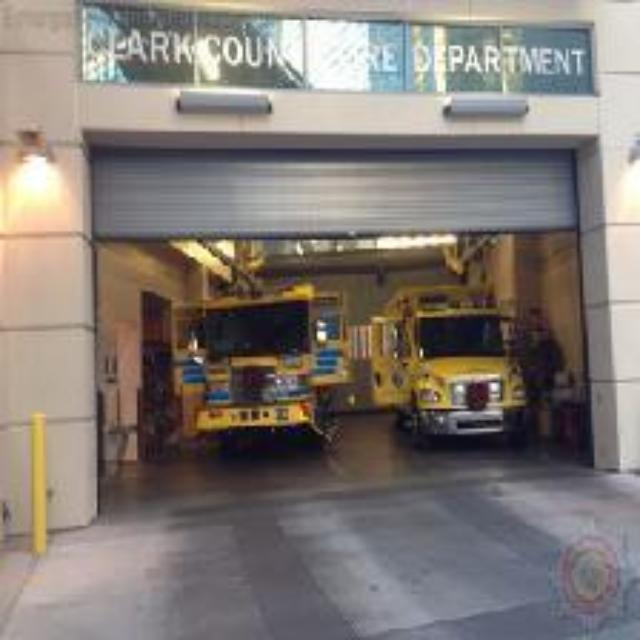emergency: (180, 282, 348, 440), (382, 287, 526, 438)
